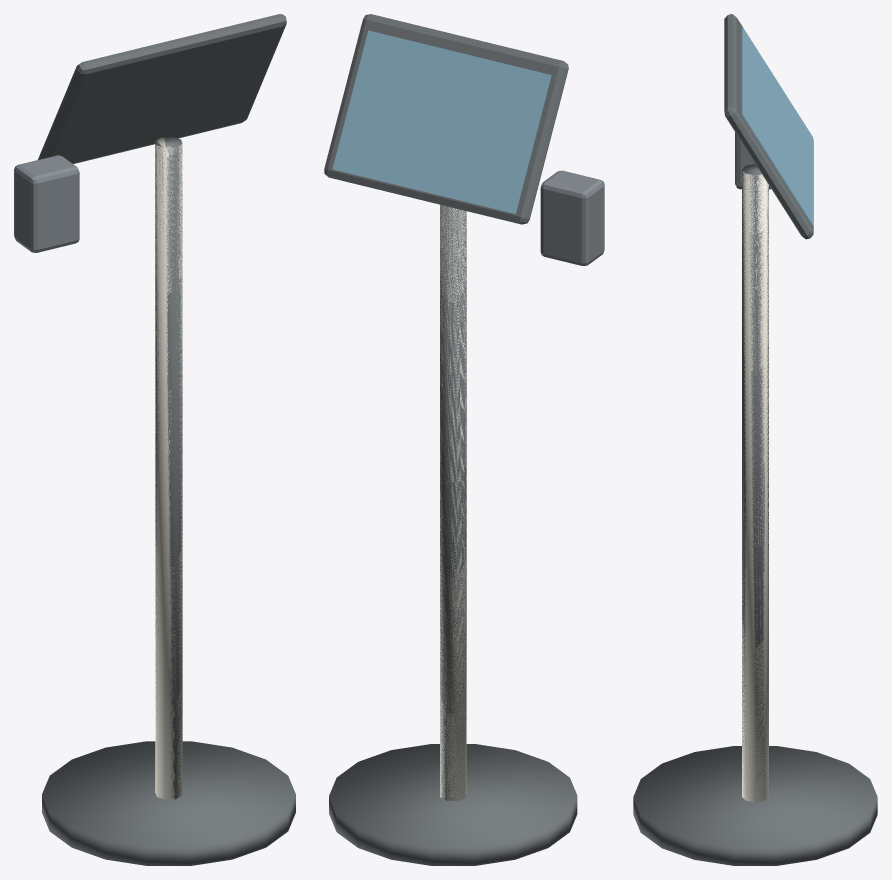
Rendered from Gear16.fbx.
3 renders of one model, left to right at view 1: azimuth 30°, elevation 25°; view 2: azimuth 150°, elevation 25°; view 3: azimuth 270°, elevation 25°, orthographic. The views are drawn at different scales.
Parts seen in each view (by area): view 1: Gear16_V1_Charcoal, Gear16_V10_Charcoal, Gear16_V3_Charcoal, Gear16_V1_Ivory, Gear16_V10_Graphite, Gear16_V6_Charcoal, Gear16_V5_Charcoal, Gear16_V4_Charcoal, Gear16_V7_Charcoal, Gear16_V9_Charcoal, Gear16_V8_Charcoal; view 2: Gear16_V1_Charcoal, Gear16_V1_ScreenUI, Gear16_V10_ScreenUI, Gear16_V3_Charcoal, Gear16_V1_Ivory, Gear16_V10_Charcoal, Gear16_V9_ScreenUI, Gear16_V10_Graphite, Gear16_V4_ScreenUI, Gear16_V5_ScreenUI, Gear16_V8_ScreenUI, Gear16_V2_ScreenUI (+1 smaller); view 3: Gear16_V1_Charcoal, Gear16_V1_Ivory, Gear16_V3_Charcoal, Gear16_V10_ScreenUI, Gear16_V10_Charcoal, Gear16_V2_ScreenUI, Gear16_V1_ScreenUI, Gear16_V10_Graphite.
Part boxes in pixels (x1,y1,x2,y2): Gear16_V1_Charcoal: [42, 41, 295, 865]; Gear16_V10_Charcoal: [38, 14, 286, 163]; Gear16_V3_Charcoal: [65, 71, 248, 799]; Gear16_V1_Ivory: [155, 137, 182, 799]; Gear16_V10_Graphite: [14, 155, 79, 252]; Gear16_V6_Charcoal: [76, 33, 272, 133]; Gear16_V5_Charcoal: [63, 35, 269, 159]; Gear16_V4_Charcoal: [64, 79, 248, 158]; Gear16_V7_Charcoal: [73, 54, 263, 148]; Gear16_V9_Charcoal: [55, 29, 279, 162]; Gear16_V8_Charcoal: [67, 33, 274, 155]; Gear16_V1_Charcoal: [329, 744, 577, 865]; Gear16_V1_ScreenUI: [354, 48, 530, 196]; Gear16_V10_ScreenUI: [332, 30, 551, 213]; Gear16_V3_Charcoal: [440, 205, 466, 800]; Gear16_V1_Ivory: [440, 204, 466, 801]; Gear16_V10_Charcoal: [324, 14, 568, 224]; Gear16_V9_ScreenUI: [335, 32, 548, 211]; Gear16_V10_Graphite: [540, 170, 604, 265]; Gear16_V4_ScreenUI: [346, 42, 537, 201]; Gear16_V5_ScreenUI: [344, 40, 538, 203]; Gear16_V8_ScreenUI: [340, 35, 546, 208]; Gear16_V2_ScreenUI: [353, 45, 532, 198]; Gear16_V1_Charcoal: [633, 746, 877, 865]; Gear16_V1_Ivory: [742, 171, 768, 802]; Gear16_V3_Charcoal: [742, 164, 768, 790]; Gear16_V10_ScreenUI: [741, 27, 813, 225]; Gear16_V10_Charcoal: [724, 14, 813, 239]; Gear16_V2_ScreenUI: [752, 66, 807, 208]; Gear16_V1_ScreenUI: [749, 50, 796, 185]; Gear16_V10_Graphite: [735, 132, 770, 189].
Bounding box in the file's own units: 41.73 × 123 × 36.
